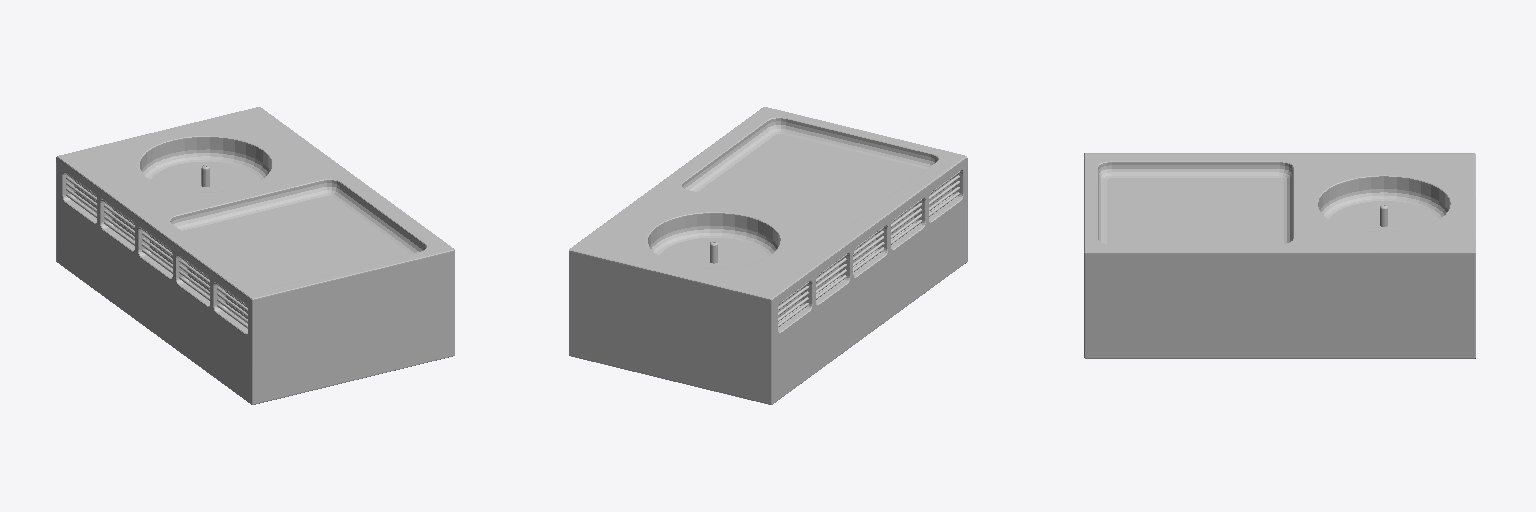
File: floor2.obj
3 renders of one model, left to right at view 1: azimuth 30°, elevation 25°; view 2: azimuth 150°, elevation 25°; view 3: azimuth 270°, elevation 25°, orthographic.
Visible parts, largest first — view 1: Cube_Cube.005; view 2: Cube_Cube.005; view 3: Cube_Cube.005.
Part boxes in pixels (x1,y1,x2,y2): Cube_Cube.005: (56, 107, 454, 404); Cube_Cube.005: (569, 107, 967, 404); Cube_Cube.005: (1084, 153, 1475, 358).
Bounding box in the file's own units: 12 × 6 × 20.